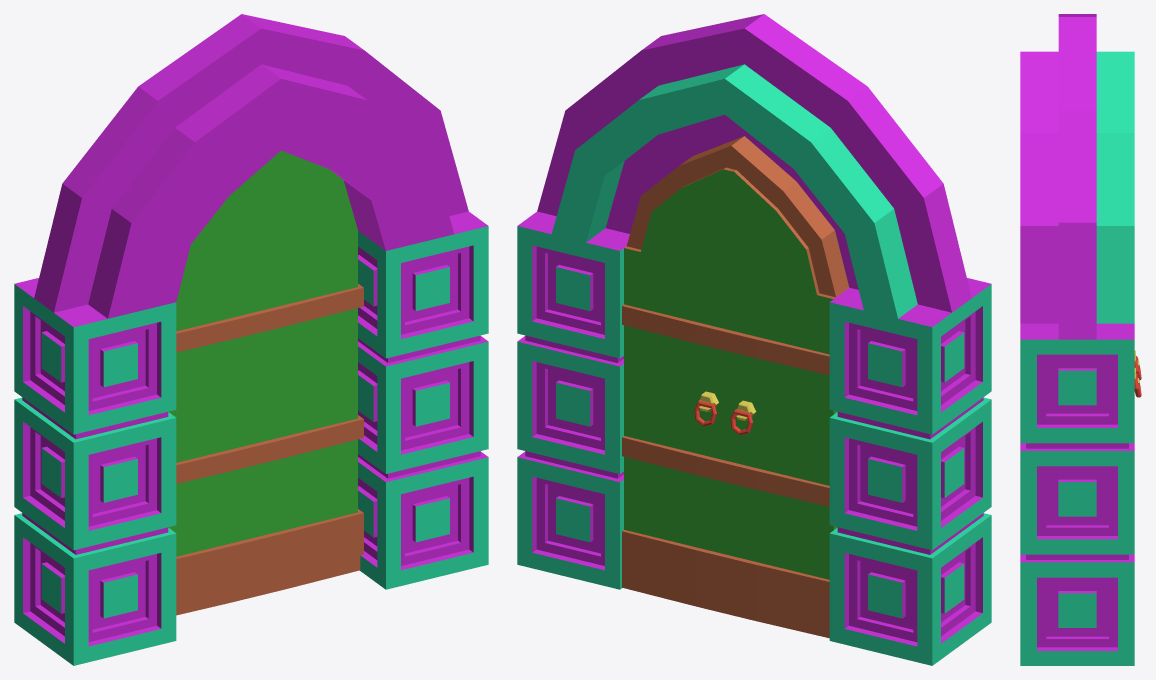
Rendered from Door.fbx.
The picture shows the model from 3 angles, left to right: view 1: azimuth 30°, elevation 25°; view 2: azimuth 150°, elevation 25°; view 3: azimuth 270°, elevation 25°; orthographic projection. The views are drawn at different scales.
Parts seen in each view (by area): view 1: doorframe, innerleft, innerright; view 2: doorframe, innerright, innerleft; view 3: doorframe.
Boxes of the visible parts, bbox=[...] form: doorframe: bbox=[14, 14, 488, 665]; innerleft: bbox=[253, 150, 363, 596]; innerright: bbox=[168, 175, 256, 615]; doorframe: bbox=[517, 14, 991, 665]; innerright: bbox=[726, 136, 849, 638]; innerleft: bbox=[622, 136, 743, 613]; doorframe: bbox=[1020, 14, 1134, 665].
Bounding box in the file's own units: 595 × 784 × 156.
